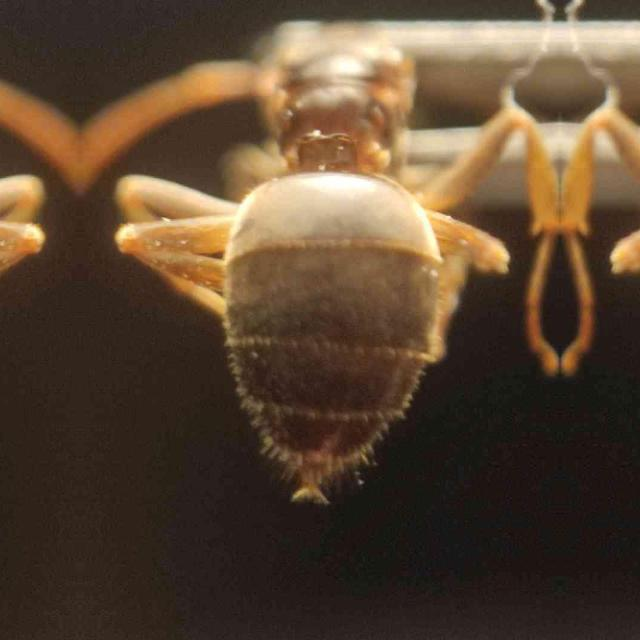Lasius: (134, 0, 534, 486)
